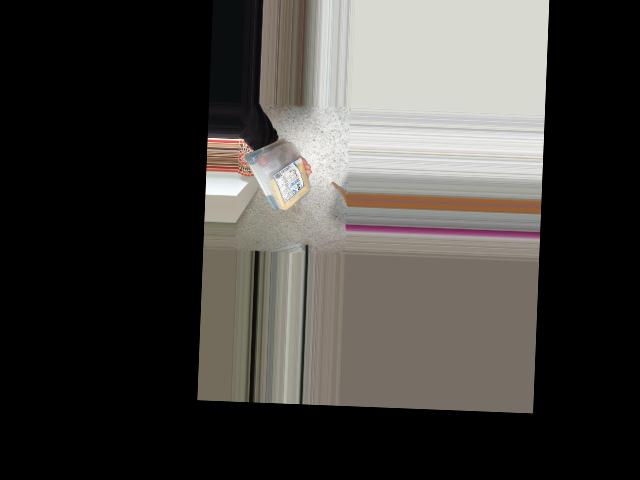cheese: (238, 133, 318, 216)
